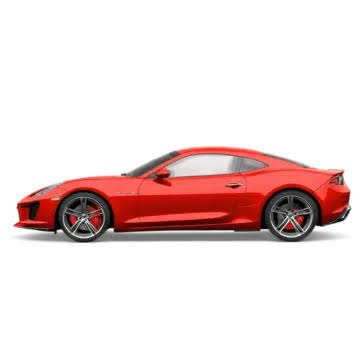car: (17, 140, 343, 237)
